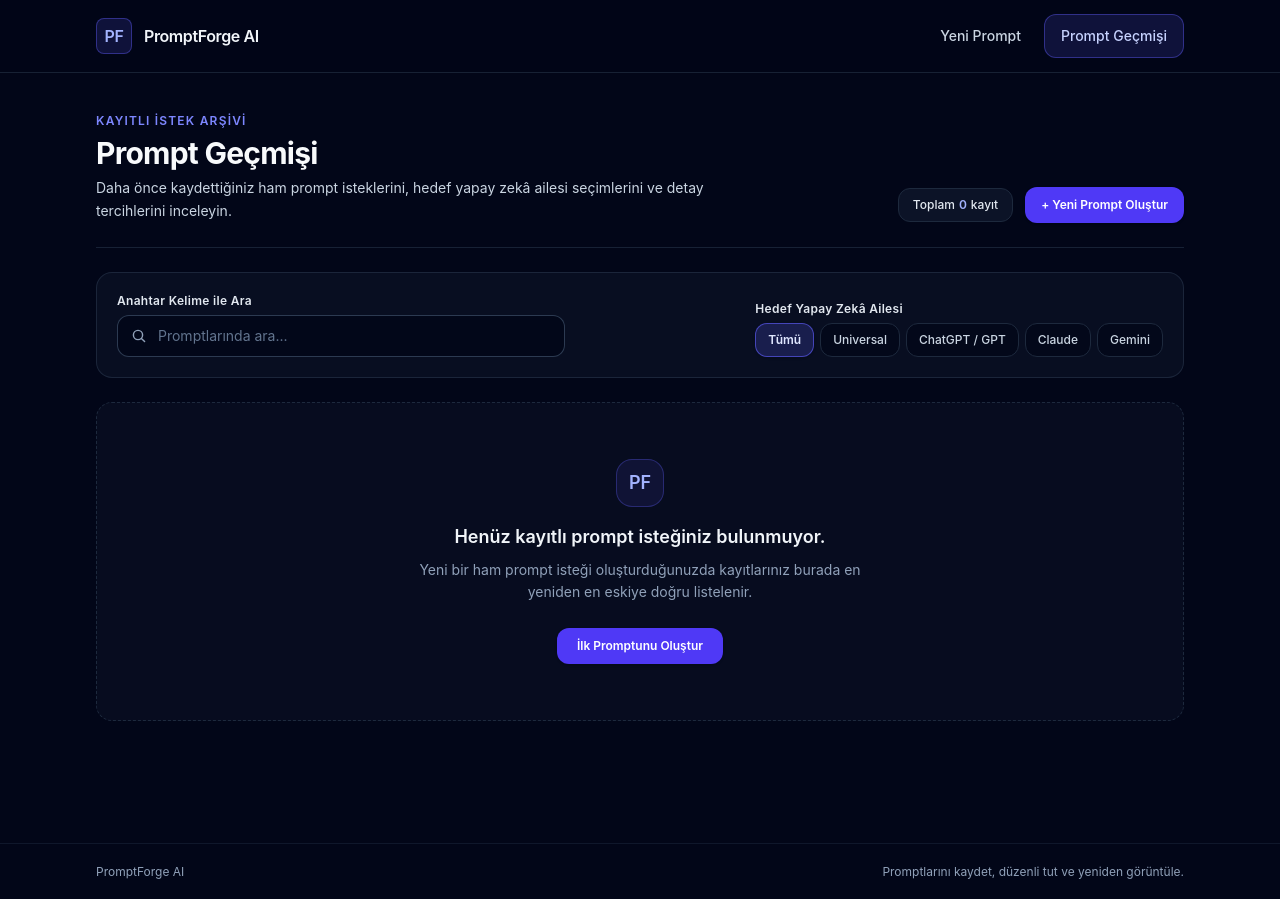
Test: Prompt history, server-side pagination, and navigation (Milestone 4B-1) › renders empty history state with exact Turkish message, hides misleading pagination, and links to new prompt page
Expected: the heading "Henüz kayıtlı prompt isteğiniz bulunmuyor." is shown, left=454, top=522, right=826, bottom=550
Click the link "İlk Promptunu Oluştur" at (640, 646), box left=557, top=628, right=723, bottom=664
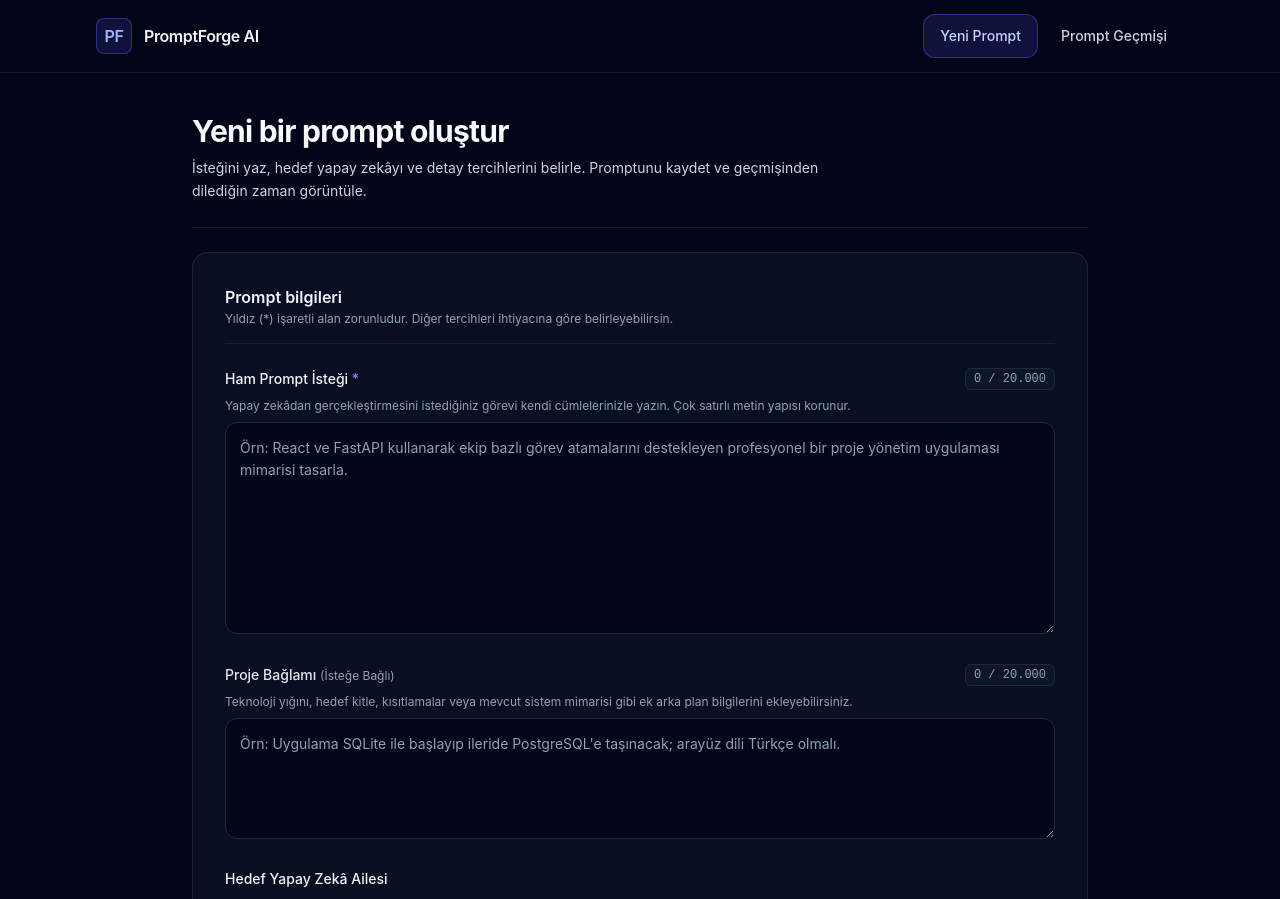
Expected: the text box labelled "Ham Prompt İsteği *" is shown, left=225, top=422, right=1055, bottom=634
